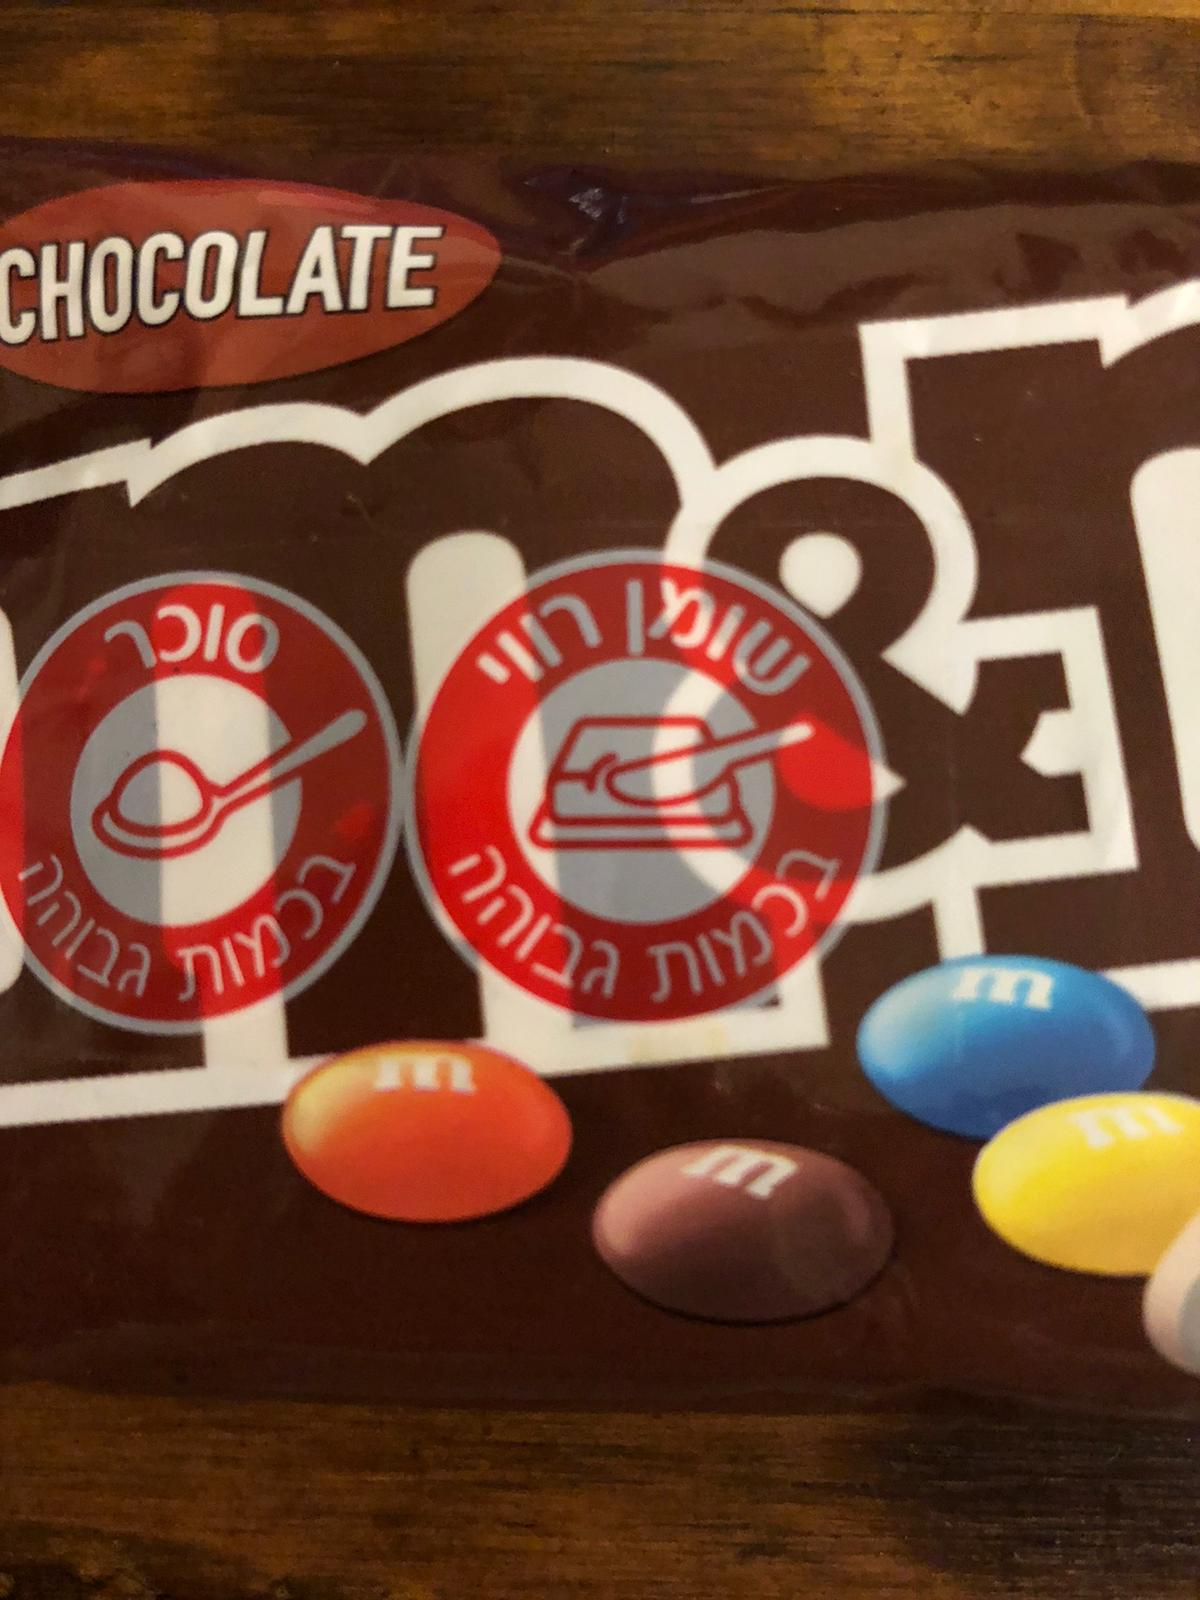fat: (397, 551, 884, 1028)
sugar: (1, 566, 406, 1036)
